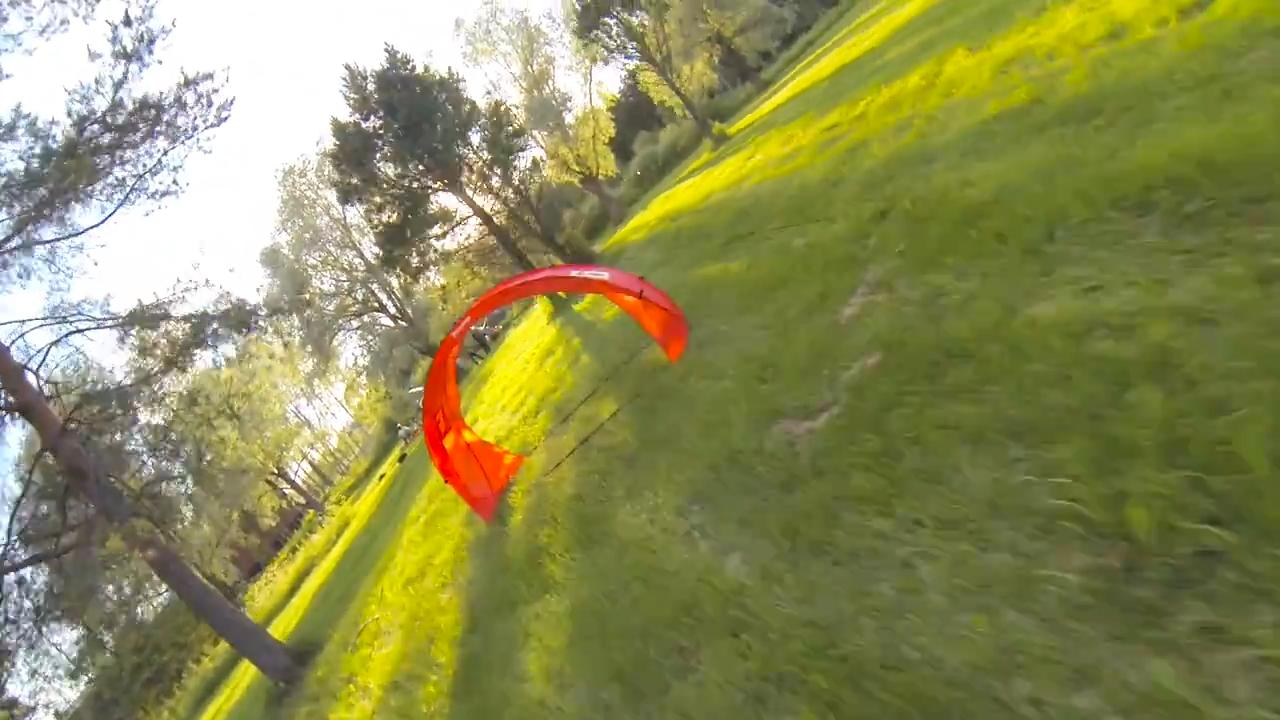gate: (422, 262, 695, 520)
